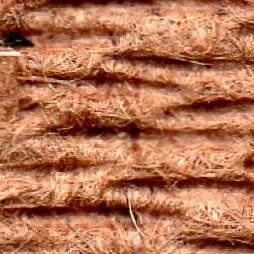egg: (4, 35, 33, 45)
